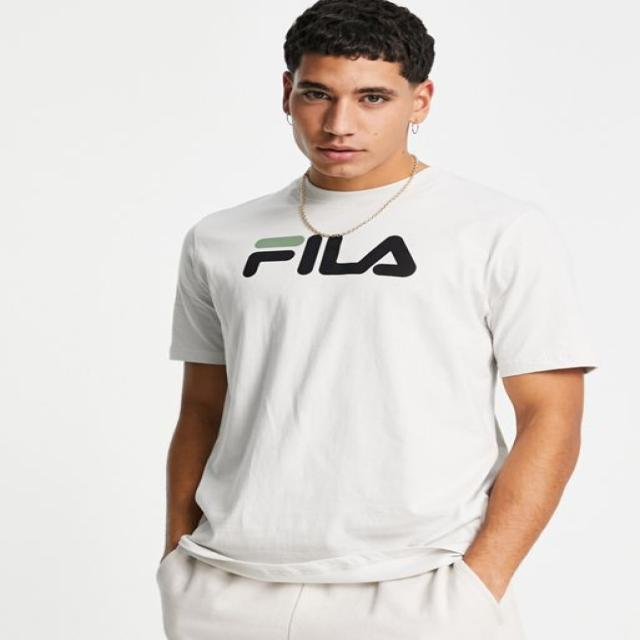tshirt: (164, 165, 590, 578)
